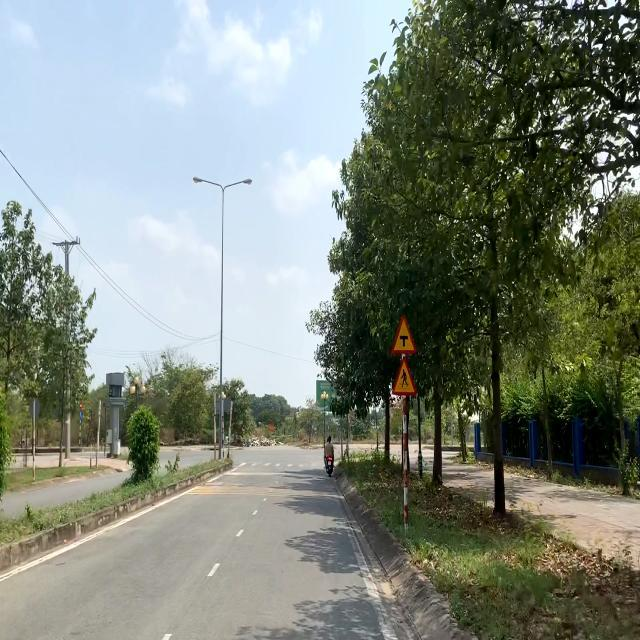W-205d: (391, 314, 415, 352)
W-224: (392, 359, 417, 398)
